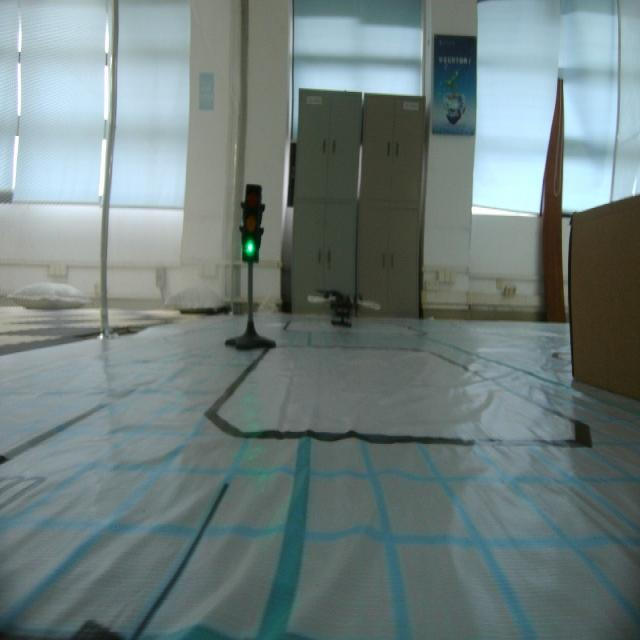green: (237, 181, 267, 268)
